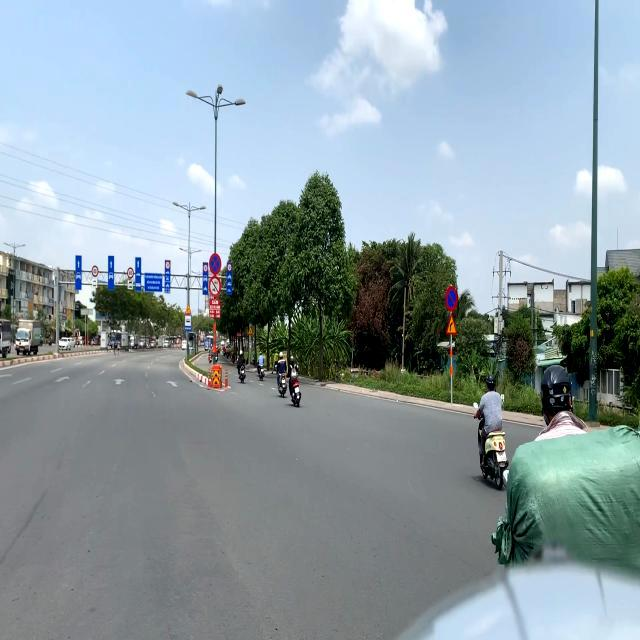Ben xe buyt: (184, 315, 192, 331)
Cam do xe: (445, 285, 458, 312)
Cam dung xe va do xe: (209, 252, 222, 276)
Toc do toi da cho phep: (127, 267, 134, 279), (92, 265, 98, 277), (165, 260, 170, 270), (203, 264, 208, 272), (227, 264, 232, 272)
cho ngoat nguy hiem vong ben phai: (446, 313, 458, 335), (186, 303, 192, 314)
